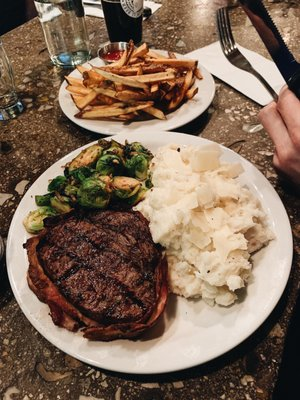pizza: (32, 0, 90, 69)
sandwich: (236, 0, 300, 103)
